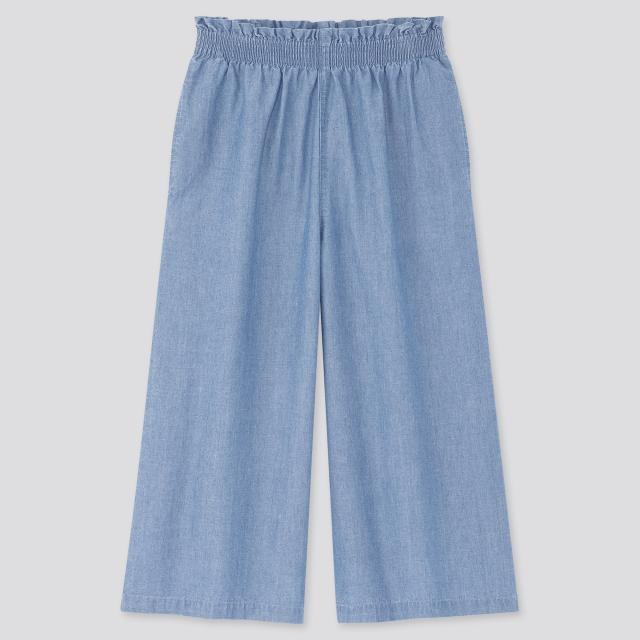long-pants: (120, 16, 522, 628)
